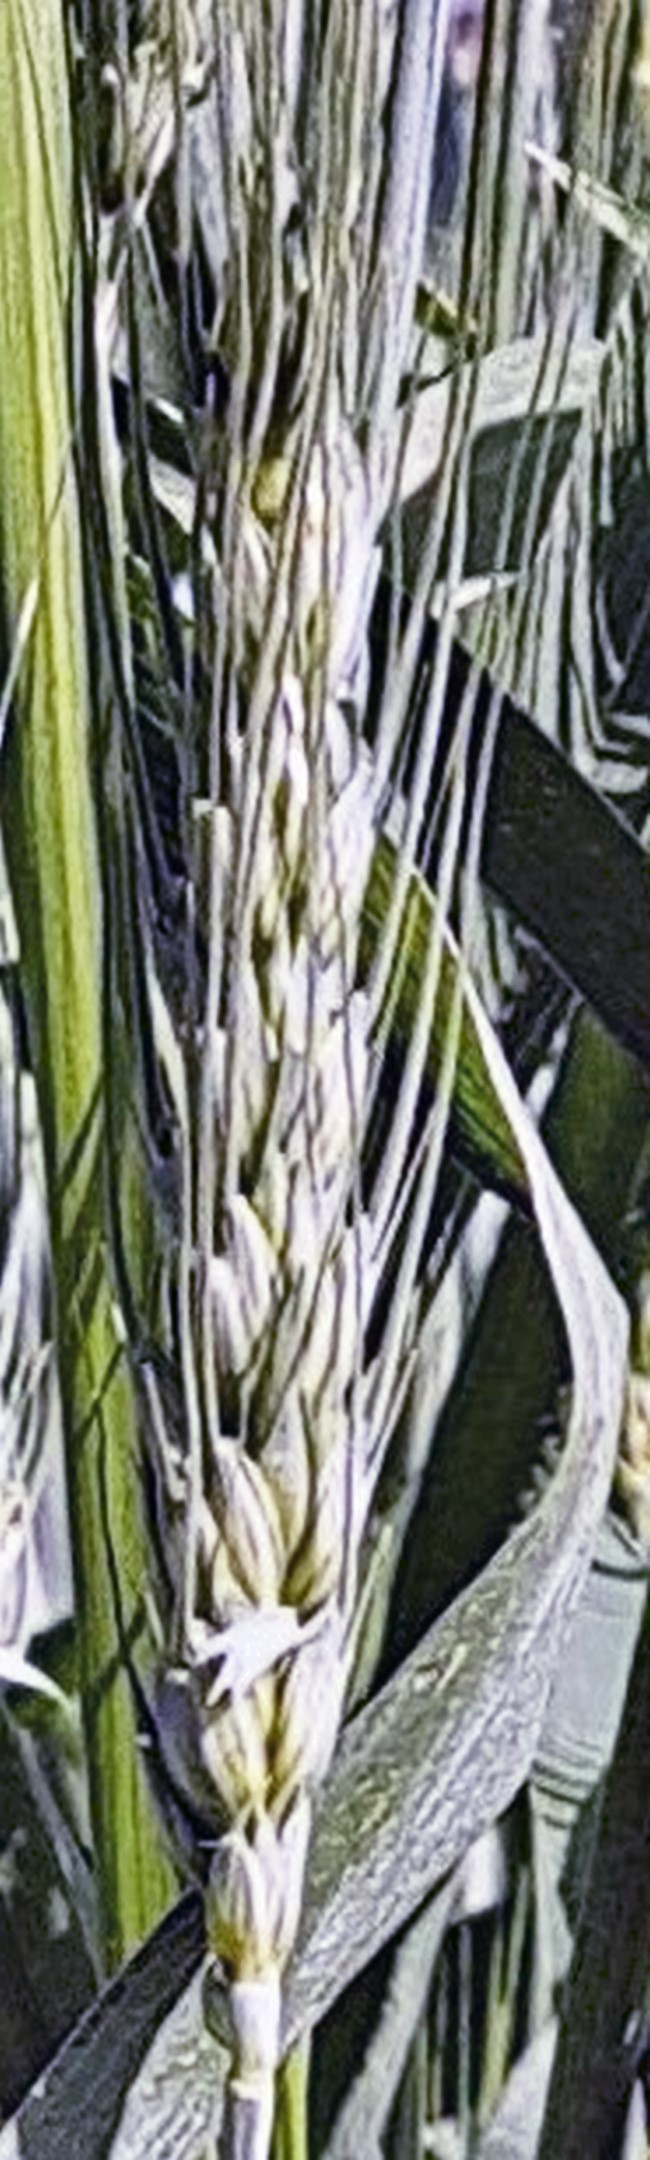Healthy Wheat: (116, 280, 446, 1942)
